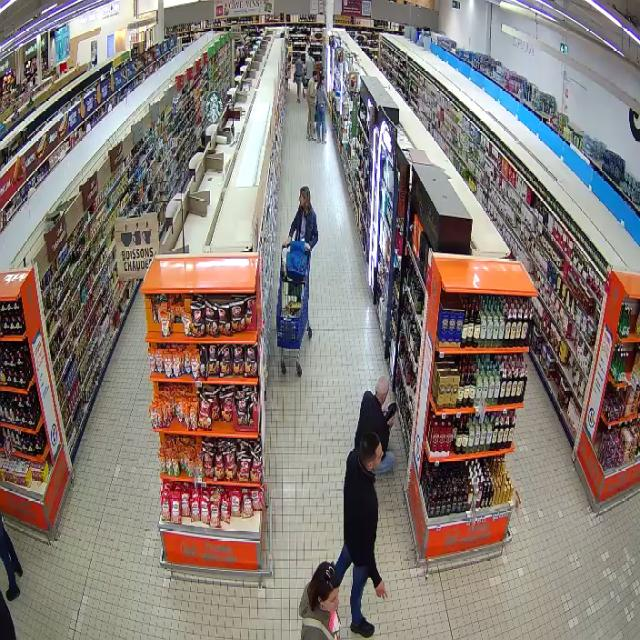article: (383, 399, 402, 423)
hands: (375, 580, 388, 599), (283, 237, 291, 247), (305, 243, 312, 251), (388, 418, 394, 427)
person: (335, 431, 386, 637), (354, 378, 396, 473), (299, 561, 341, 639), (285, 186, 317, 253)
